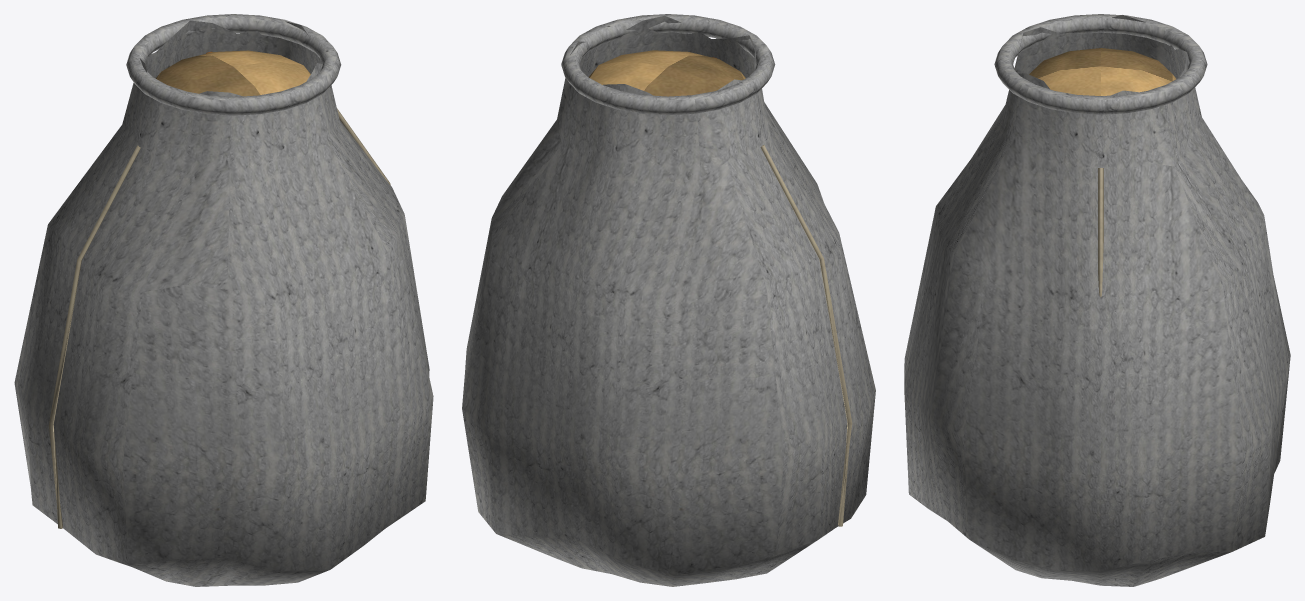
Rendered from Sack_Open.gltf.
The picture shows the model from 3 angles, left to right: view 1: azimuth 30°, elevation 25°; view 2: azimuth 150°, elevation 25°; view 3: azimuth 270°, elevation 25°; orthographic projection.
Parts seen in each view (by area): view 1: Sack_Open; view 2: Sack_Open; view 3: Sack_Open.
Part boxes in pixels (x1,y1,x2,y2): Sack_Open: (14,14,433,586); Sack_Open: (462,14,875,586); Sack_Open: (904,14,1290,586).
Size of the model in its own units: 0.5962 by 0.734 by 0.5367.
Materials: 4 (4 with a texture image).
